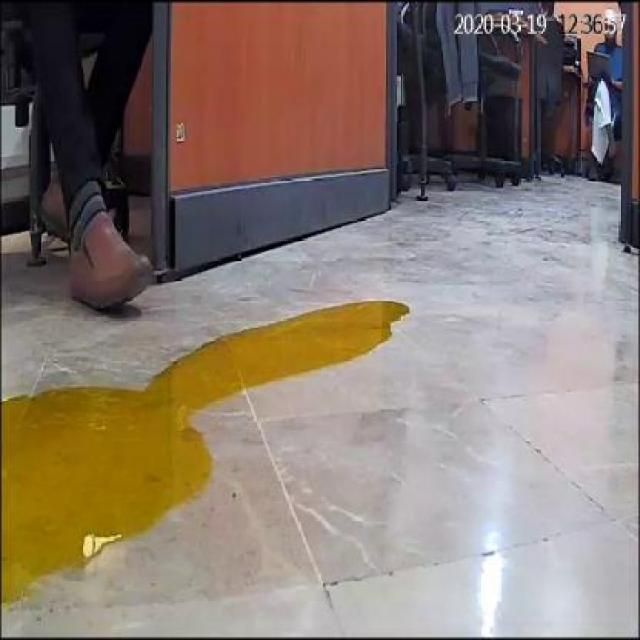spill: (3, 295, 411, 603)
